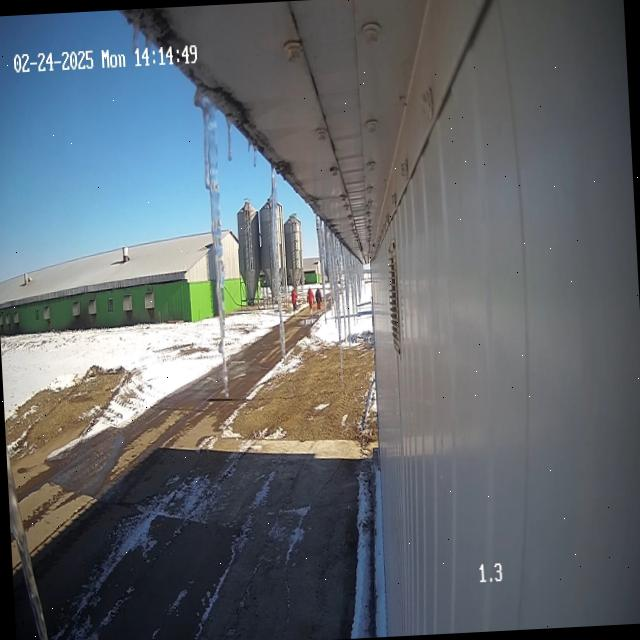Red uniform: (307, 288, 314, 316), (315, 289, 322, 313), (291, 288, 297, 311)
